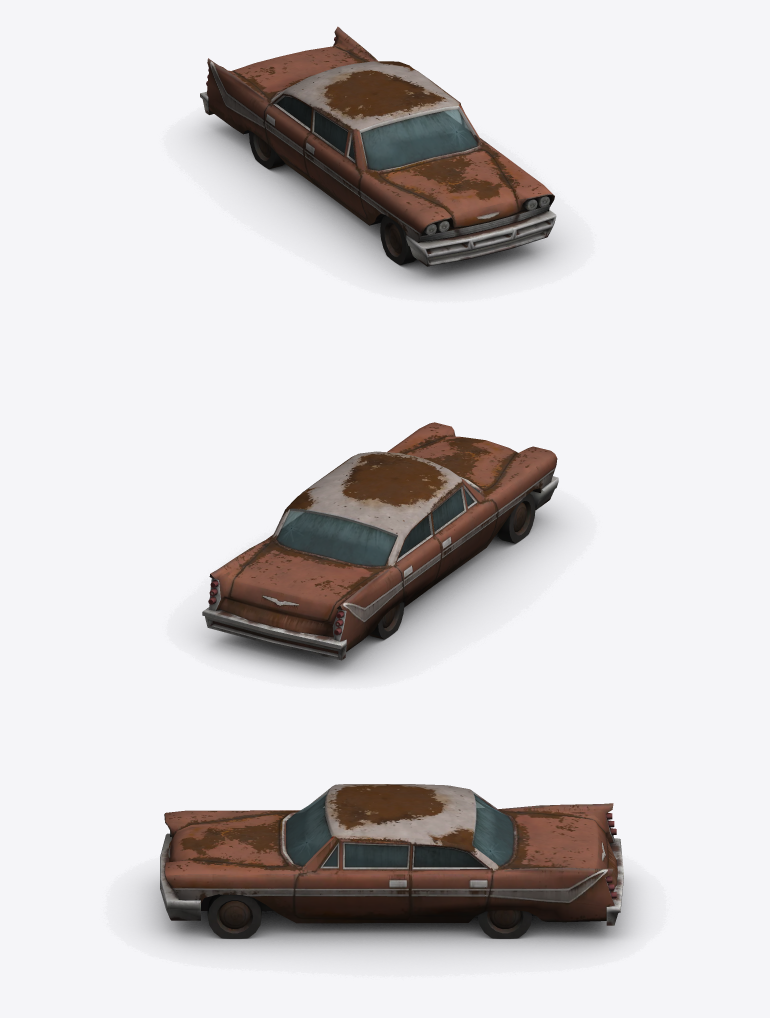
Rendered from car_rusty2.67827b9ed9.glb.
The picture shows the model from 3 angles, top to bottom: view 1: azimuth 30°, elevation 25°; view 2: azimuth 150°, elevation 25°; view 3: azimuth 270°, elevation 25°; orthographic projection. The views are drawn at different scales.
Visible parts, largest first — view 1: Object001_Material #37_0, Plane001, Object002_Material #33_0; view 2: Object001_Material #37_0, Plane001, Object002_Material #33_0; view 3: Object001_Material #37_0, Plane001, Object002_Material #33_0.
Boxes of the visible parts, x1=… form: Object001_Material #37_0: x1=200, y1=26, x2=556, y2=266; Plane001: x1=201, y1=117, x2=556, y2=286; Object002_Material #33_0: x1=276, y1=93, x2=477, y2=170; Object001_Material #37_0: x1=202, y1=422, x2=558, y2=660; Plane001: x1=203, y1=506, x2=559, y2=677; Object002_Material #33_0: x1=276, y1=485, x2=479, y2=566; Object001_Material #37_0: x1=160, y1=784, x2=623, y2=938; Plane001: x1=146, y1=876, x2=634, y2=949; Object002_Material #33_0: x1=286, y1=794, x2=514, y2=867.
Size of the model in its own units: 277 by 70.69 by 452.
Materials: 3 (3 with a texture image).
